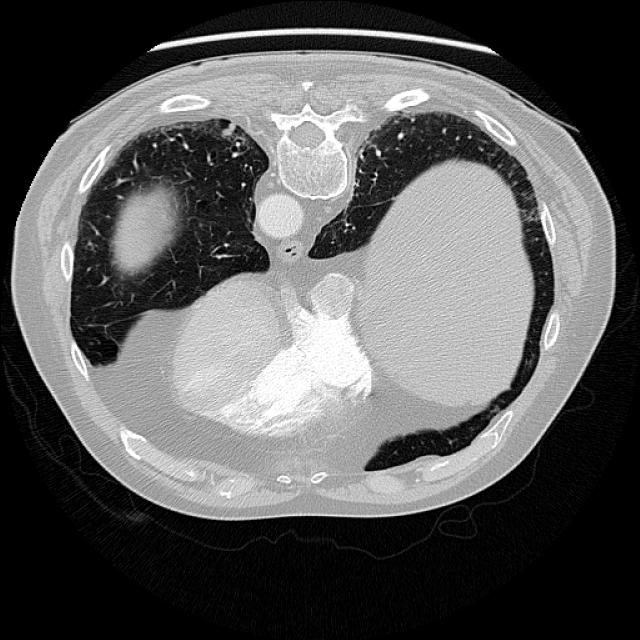nodule: (218, 118, 242, 144)
